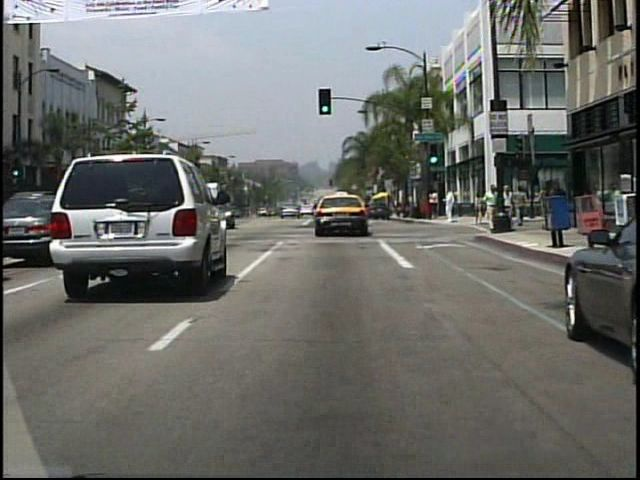person: (484, 185, 504, 232), (481, 181, 496, 234), (514, 184, 529, 229), (500, 183, 514, 230), (502, 190, 514, 225), (473, 191, 484, 227), (445, 188, 456, 223), (427, 187, 438, 219)
